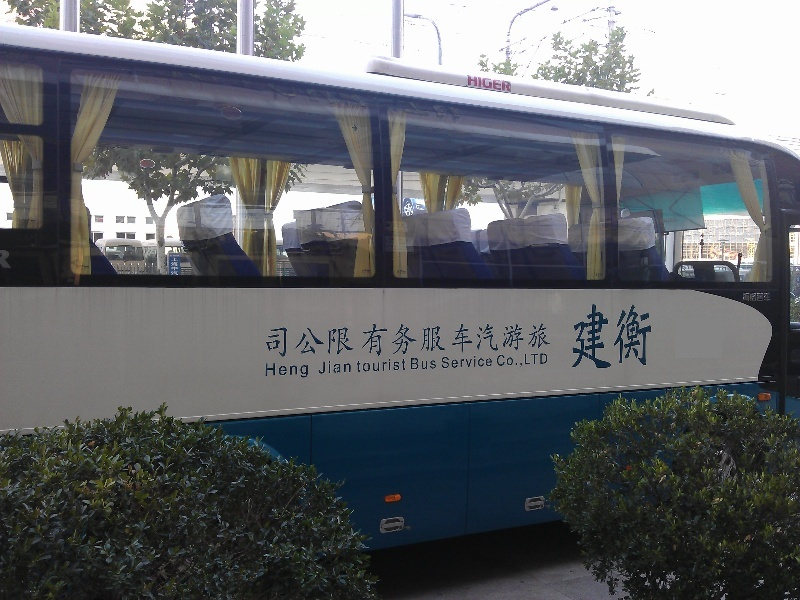text: (577, 303, 592, 369), (593, 303, 608, 369), (609, 303, 624, 369), (625, 303, 640, 369), (641, 303, 654, 369), (273, 320, 288, 357), (289, 320, 304, 357), (305, 320, 320, 357), (321, 320, 336, 357), (337, 320, 352, 357), (353, 320, 368, 357), (369, 320, 384, 357), (385, 320, 400, 357), (401, 320, 416, 357), (417, 320, 432, 357), (433, 320, 448, 357), (449, 320, 464, 357), (465, 320, 480, 357), (481, 320, 496, 357), (497, 320, 512, 357), (513, 320, 528, 357), (529, 320, 544, 357), (571, 303, 576, 369), (273, 362, 288, 380), (289, 362, 304, 380), (481, 75, 496, 93), (497, 75, 512, 93), (265, 320, 272, 357), (337, 360, 353, 375), (321, 360, 336, 375), (369, 359, 384, 374), (385, 359, 400, 374), (468, 75, 480, 93), (417, 357, 432, 371), (449, 355, 464, 369), (465, 355, 480, 369), (497, 354, 512, 368), (529, 353, 544, 367), (545, 320, 550, 357), (481, 355, 493, 369), (357, 359, 368, 374), (264, 362, 272, 380), (513, 354, 523, 368), (753, 293, 768, 302), (305, 362, 311, 380), (401, 359, 408, 374), (441, 355, 448, 369), (171, 258, 176, 276), (743, 293, 752, 302), (411, 357, 416, 371), (433, 357, 438, 371), (740, 276, 752, 281), (524, 353, 528, 367), (545, 353, 549, 367), (177, 258, 179, 276), (318, 360, 320, 375), (769, 293, 771, 302), (798, 278, 800, 281)
